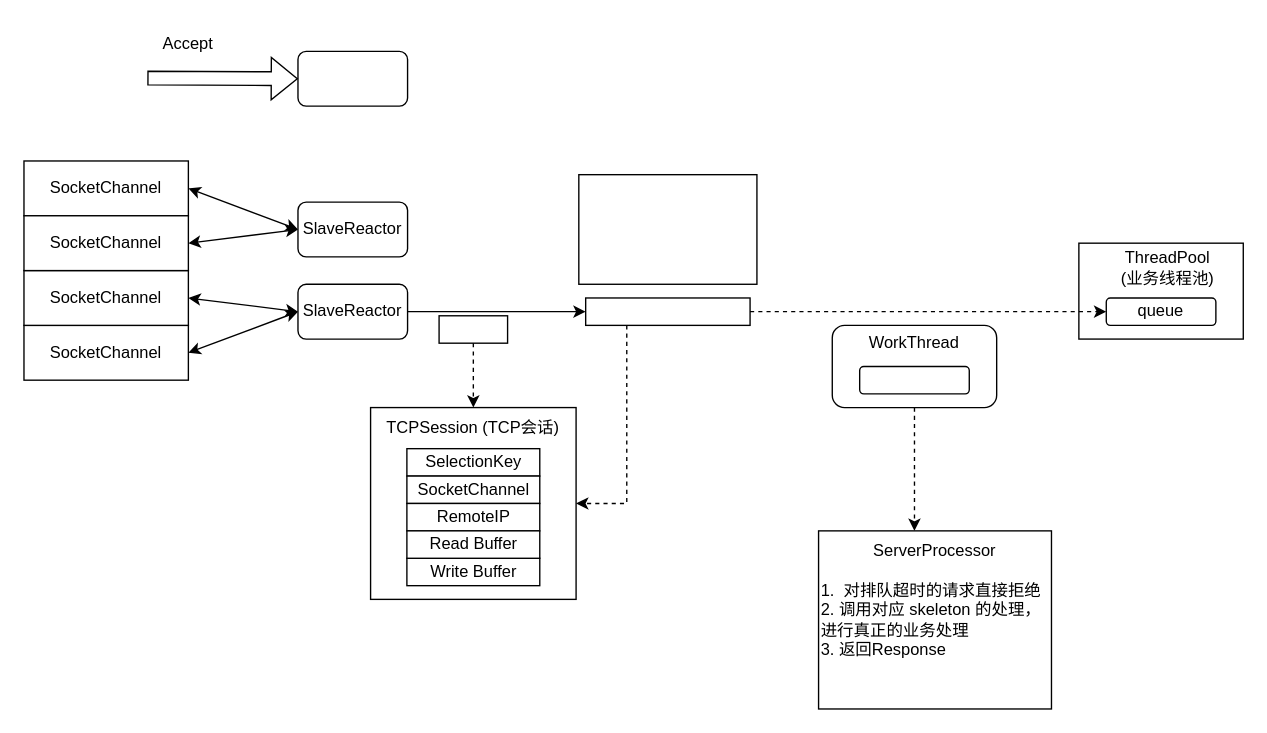
This 1267x733 diagram has some shape labels left out. The shapes that lost their labels are listed below. From the top down, each one's centre as x and y in pixels, then its label:
the point at 352,78: MainReactor
the point at 667,228: 1. 从channel读取数据 到 Read Buffer 2. Decode 二进制流为 Request 3. 投递给业务线程池
the point at 473,328: event
the point at 667,311: TCPAcceptor
the point at 913,379: Request
